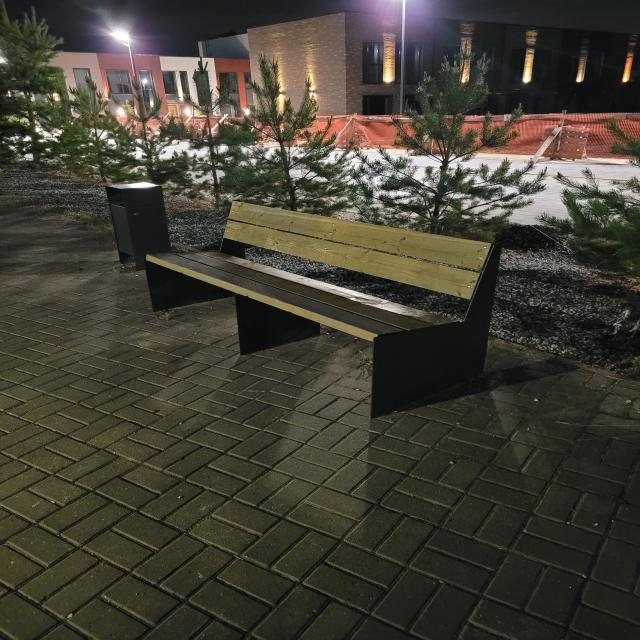Bench: (143, 200, 501, 419)
